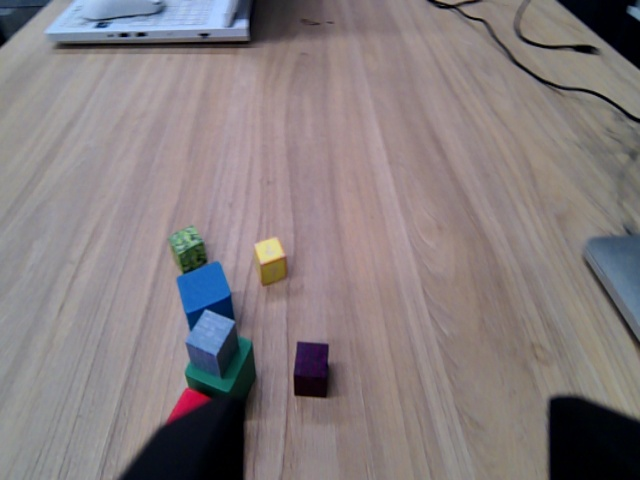brick: (294, 341, 329, 397)
grass: (165, 226, 207, 266)
lucky: (251, 239, 289, 285)
stone: (192, 312, 240, 378)
